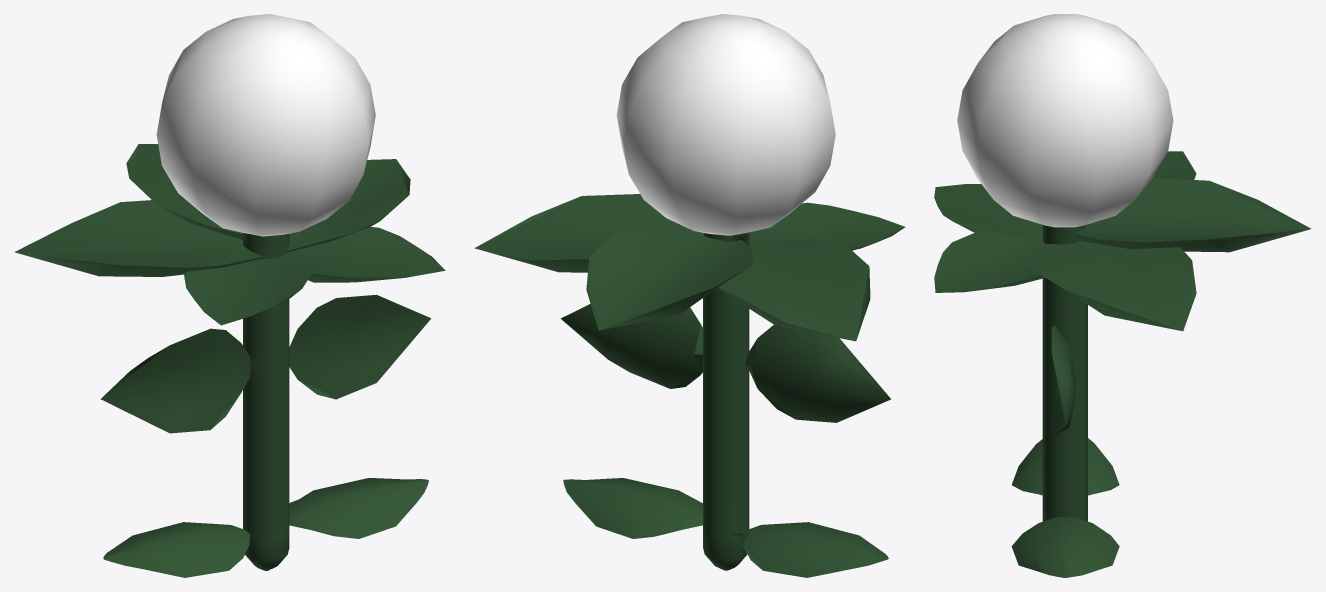
The model's file is EyeStalkerFinal.obj.
3 renders of one model, left to right at view 1: azimuth 30°, elevation 25°; view 2: azimuth 150°, elevation 25°; view 3: azimuth 270°, elevation 25°, orthographic. The views are drawn at different scales.
Visible parts, largest first — view 1: pSphere9; view 2: pSphere9; view 3: pSphere9.
Boxes of the visible parts, box(x1,y1,x2,y2) form: pSphere9: box(14, 14, 445, 577); pSphere9: box(474, 14, 905, 577); pSphere9: box(934, 14, 1310, 577).
Bounding box in the file's own units: 111 × 152 × 98.64.
